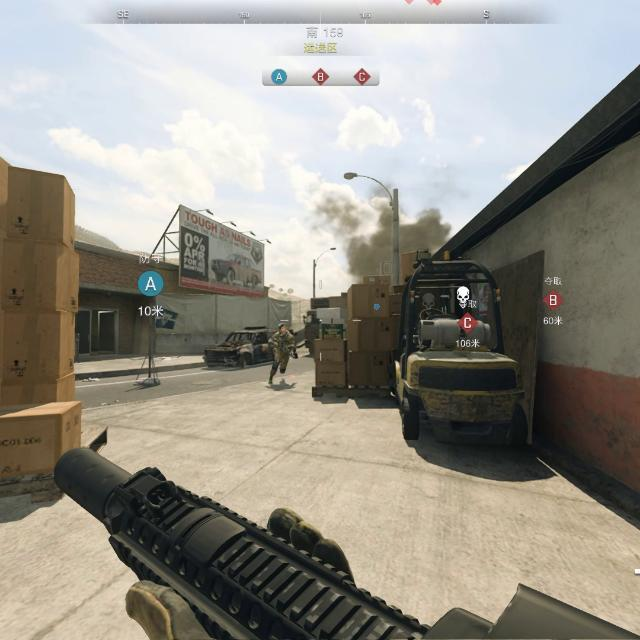MW2_body: (269, 323, 296, 388)
